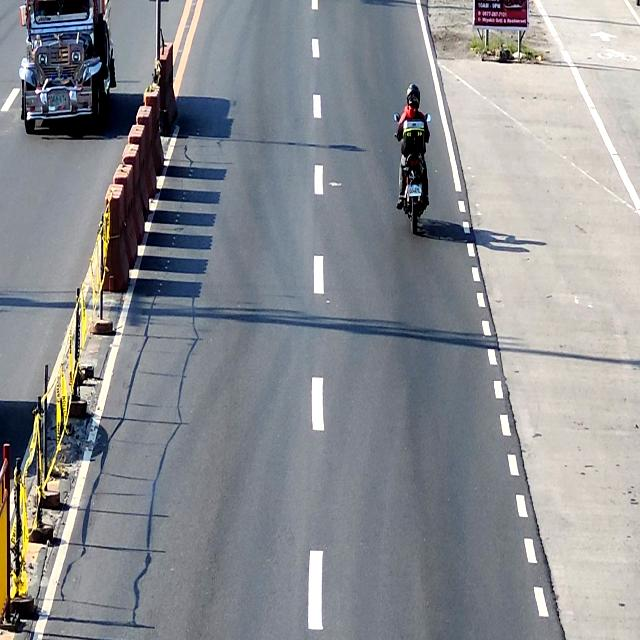Jeep: (19, 0, 116, 135)
License-Plate: (50, 94, 68, 108), (409, 185, 422, 198)
Motorcycle: (393, 112, 431, 237)
